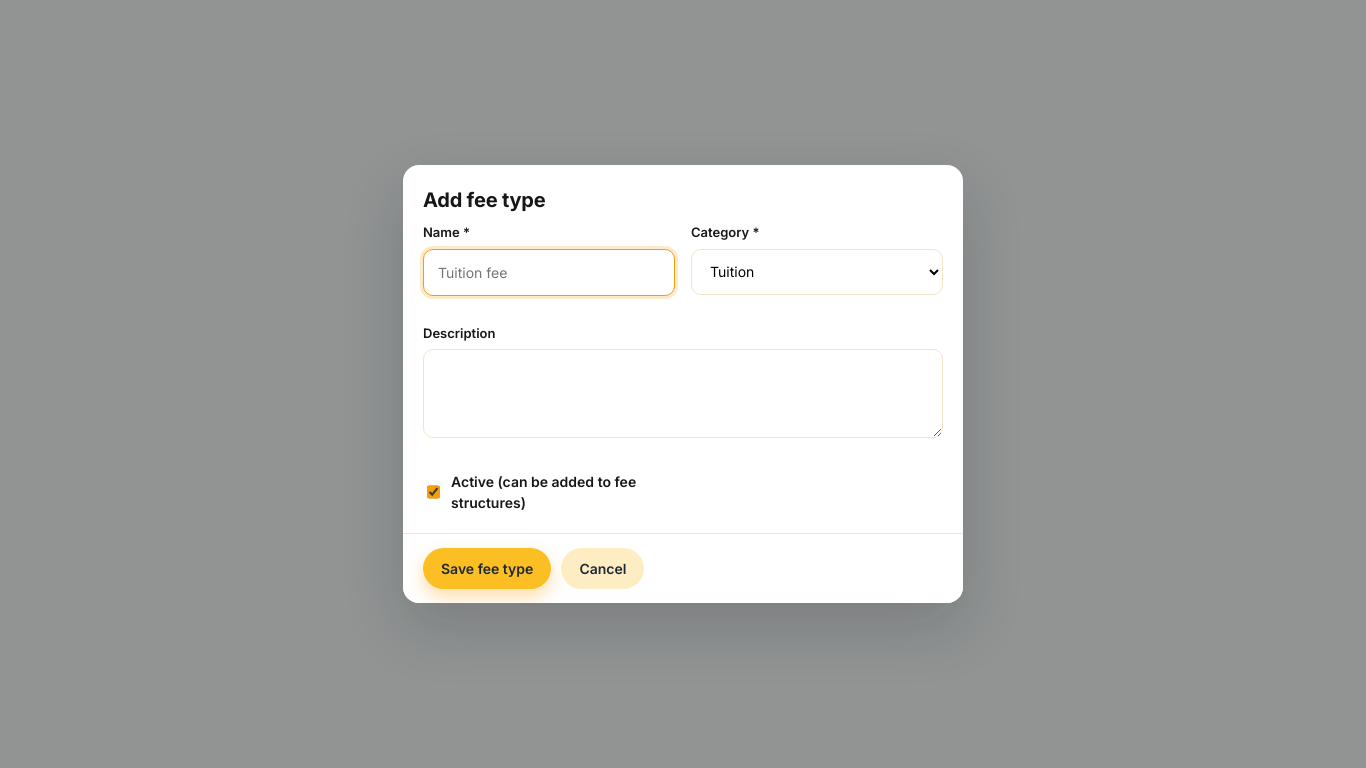
Test: FeeTypeForm › shows a field error and doesn't save when the name is empty
The width and height of the screenshot is (1366, 768).
Click the button "Save fee type" at (487, 568), box [423,548,551,589]
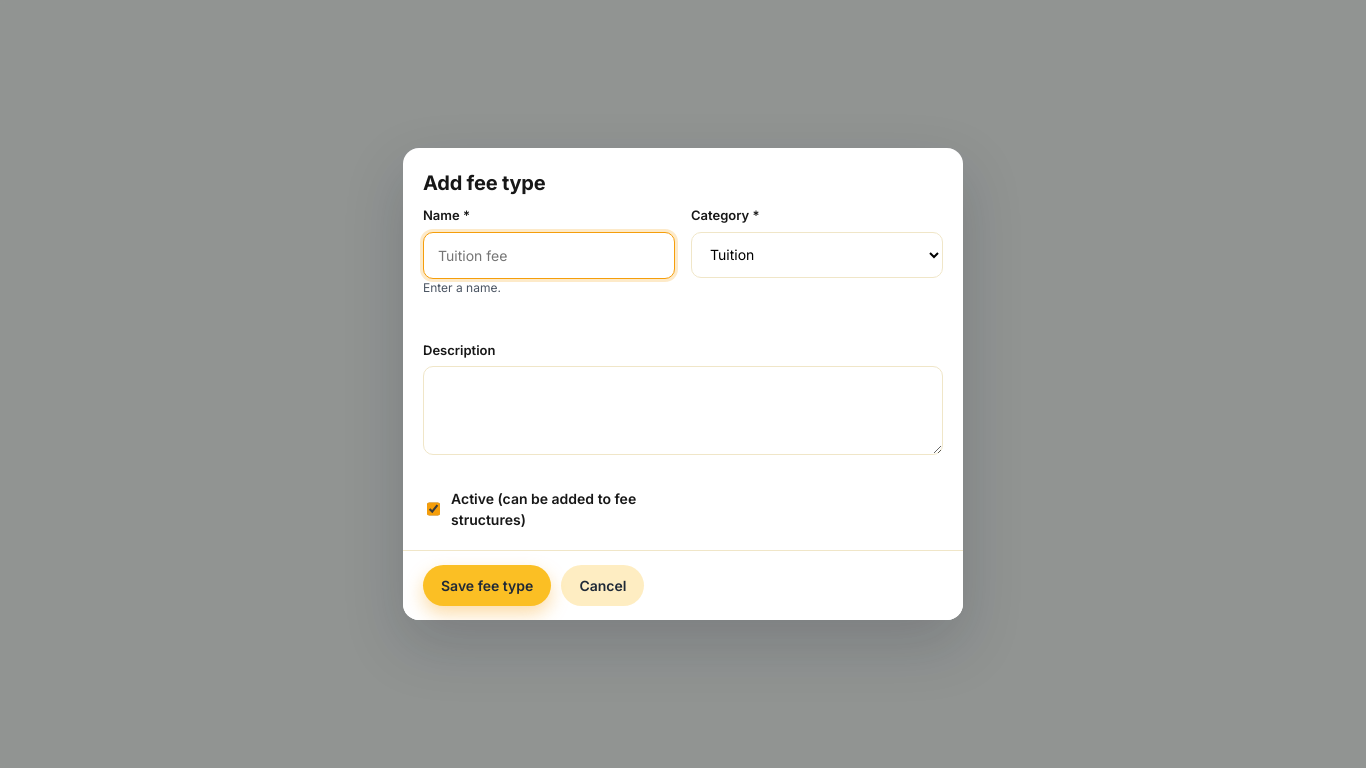
expect the text "Enter a name." is shown: met, box [423,280,501,294]
